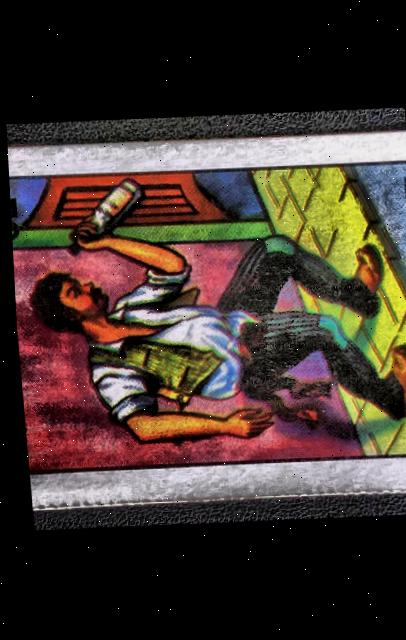El Borracho: (6, 150, 406, 492)
